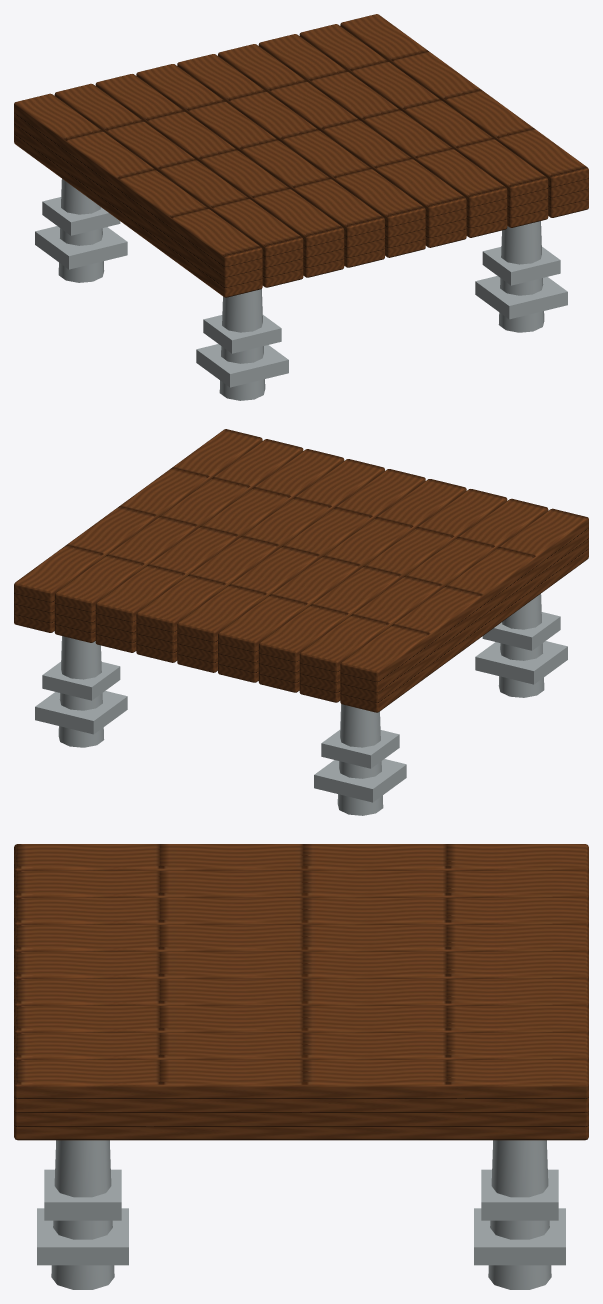
The model's file is modular-survival-base-builder-screw-pile-foundation-eae38db5__24137.glb.
3 views of the same model, one above another, from view 1: azimuth 30°, elevation 25°; view 2: azimuth 150°, elevation 25°; view 3: azimuth 270°, elevation 25° (orthographic). The views are drawn at different scales.
Visible parts, largest first — view 1: screw-pile-foundation; view 2: screw-pile-foundation; view 3: screw-pile-foundation.
Part boxes in pixels (<box>): screw-pile-foundation: <box>14,14,588,400</box>; screw-pile-foundation: <box>14,429,588,815</box>; screw-pile-foundation: <box>14,844,588,1289</box>.
Bounding box in the file's own units: 1.99 × 0.85 × 2.
Materials: 2 (1 with a texture image).
